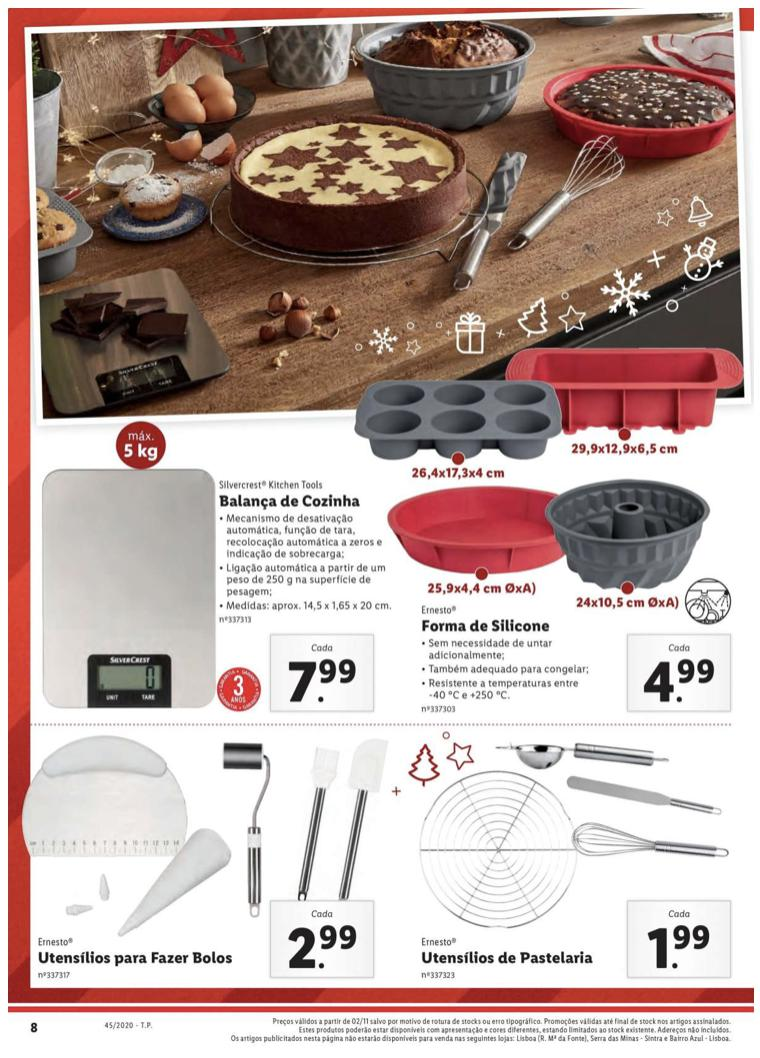name: (417, 946, 601, 967), (38, 950, 239, 968), (218, 489, 364, 513), (417, 614, 556, 639)
price: (642, 654, 718, 708), (285, 922, 359, 974), (647, 922, 711, 972), (292, 658, 359, 703)
product: (385, 354, 743, 714), (27, 716, 386, 979), (386, 724, 755, 979), (40, 466, 382, 717)
